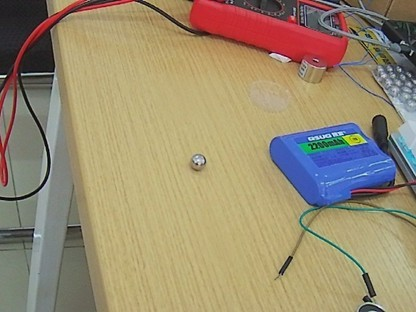ironball: (182, 147, 210, 174)
